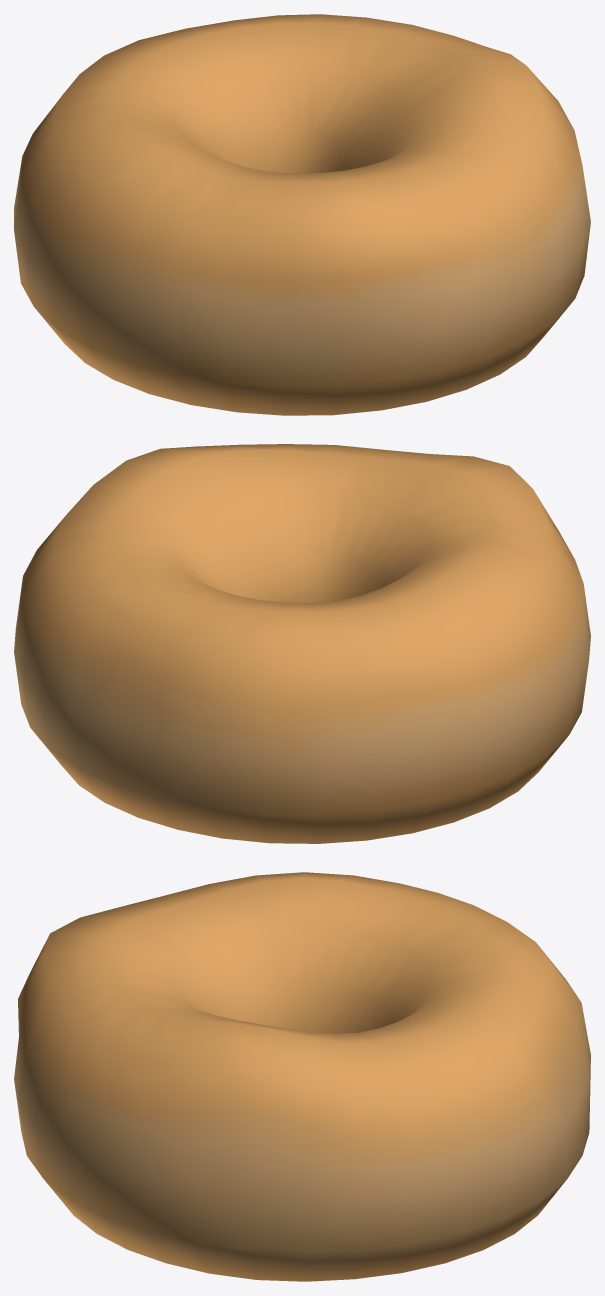
The model's file is donut.dae.
3 views of the same model, one above another, from view 1: azimuth 30°, elevation 25°; view 2: azimuth 150°, elevation 25°; view 3: azimuth 270°, elevation 25° (orthographic).
Visible parts, largest first — view 1: Donut.001; view 2: Donut.001; view 3: Donut.001.
Part boxes in pixels (x1,y1,x2,y2): Donut.001: (14, 14, 590, 415); Donut.001: (14, 444, 590, 843); Donut.001: (14, 872, 590, 1281).
Bounding box in the file's own units: 0.127 × 0.1267 × 0.0576.
1 material, 1 textured.
